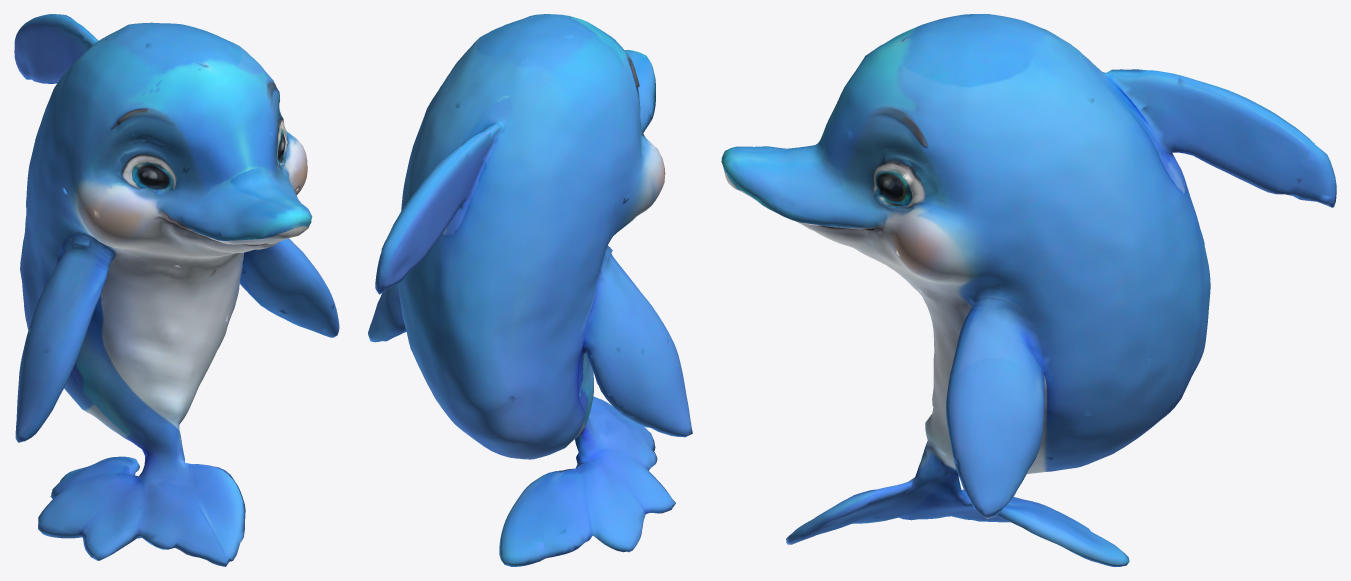
Rendered from Create_a_playful_3D_d_0426021216_texture.glb.
3 renders of one model, left to right at view 1: azimuth 30°, elevation 25°; view 2: azimuth 150°, elevation 25°; view 3: azimuth 270°, elevation 25°, orthographic. The views are drawn at different scales.
Bounding box in the file's own units: 1.39 × 1.99 × 2.
1 material, 1 textured.
